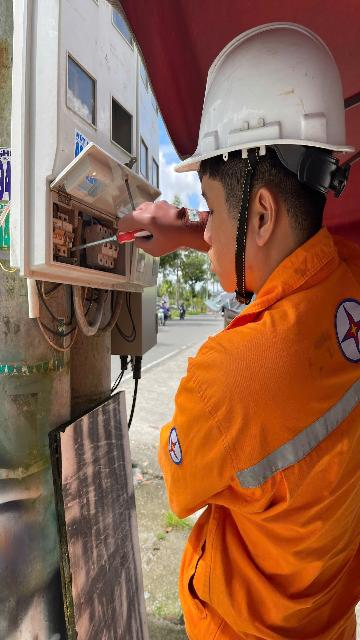gloves: (114, 198, 224, 269)
helmet: (183, 12, 358, 171)
